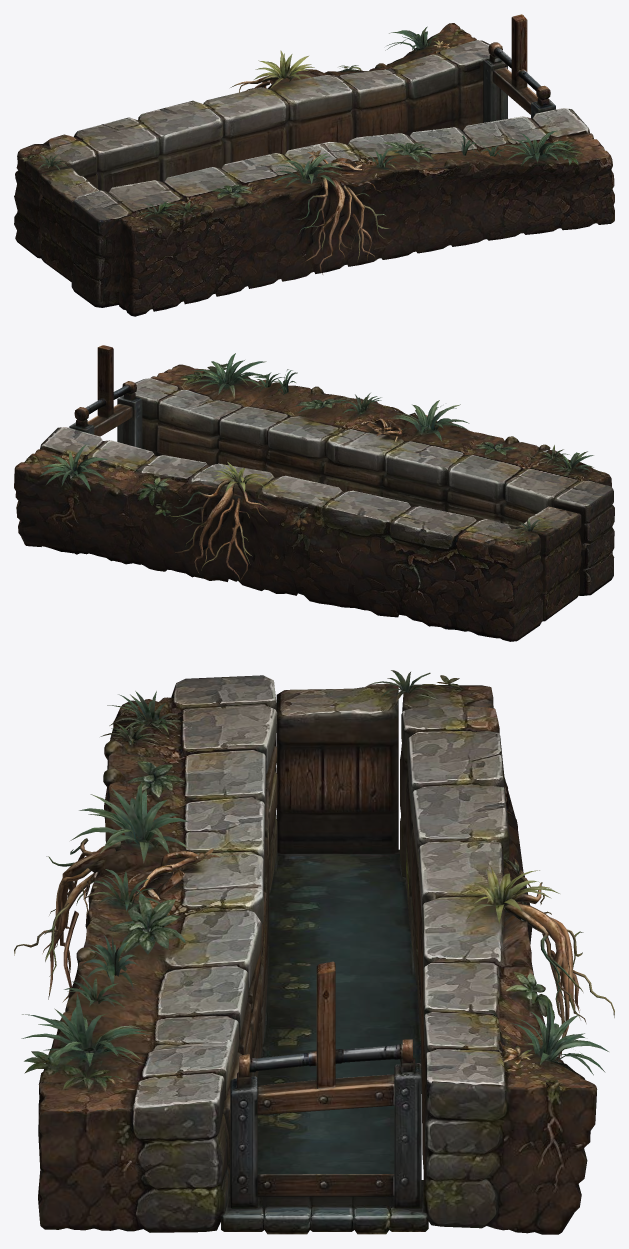
Rendered from act1-a20-5-irrigation-channel.glb.
The picture shows the model from 3 angles, top to bottom: view 1: azimuth 30°, elevation 25°; view 2: azimuth 150°, elevation 25°; view 3: azimuth 270°, elevation 25°; orthographic projection. The views are drawn at different scales.
Visible parts, largest first — view 1: act1-a20-5-irrigation-channel; view 2: act1-a20-5-irrigation-channel; view 3: act1-a20-5-irrigation-channel.
Part boxes in pixels (box(x1,y1,x2,y2)): act1-a20-5-irrigation-channel: box(14, 14, 614, 316); act1-a20-5-irrigation-channel: box(14, 345, 614, 641); act1-a20-5-irrigation-channel: box(14, 670, 614, 1234).
Size of the model in its own units: 3 by 0.8925 by 1.88.
1 material, 1 textured.
